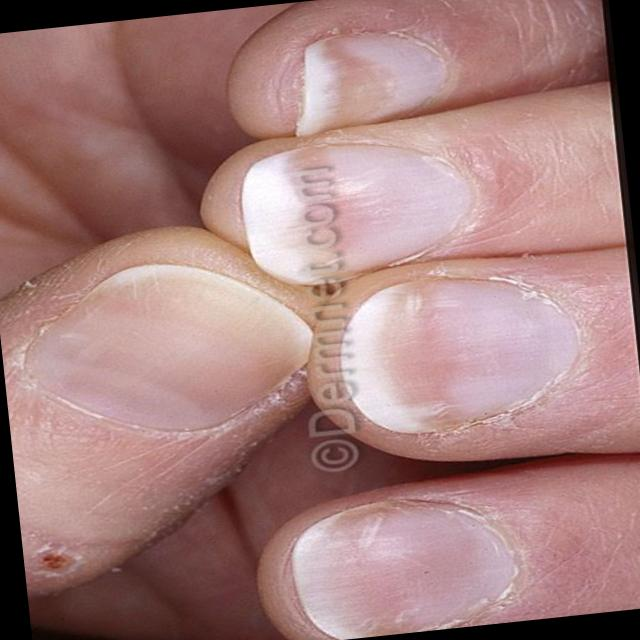Nail: (23, 264, 311, 425), (342, 273, 581, 433), (294, 495, 523, 639), (244, 142, 469, 282), (297, 28, 440, 134)
